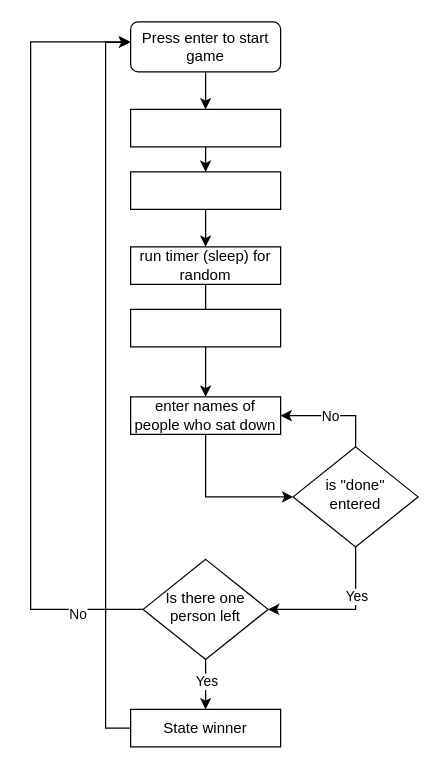
Some shapes in this 440 by 769 pixel diagram are drawn without their labels. The centre of each missing label's shape, as x and y in pixels:
"players stand up": point 205,127
Display meme: point 205,327
select random time: point 205,190
